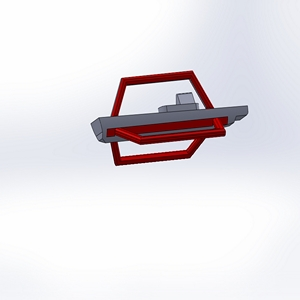submarine: (91, 68, 256, 174)
